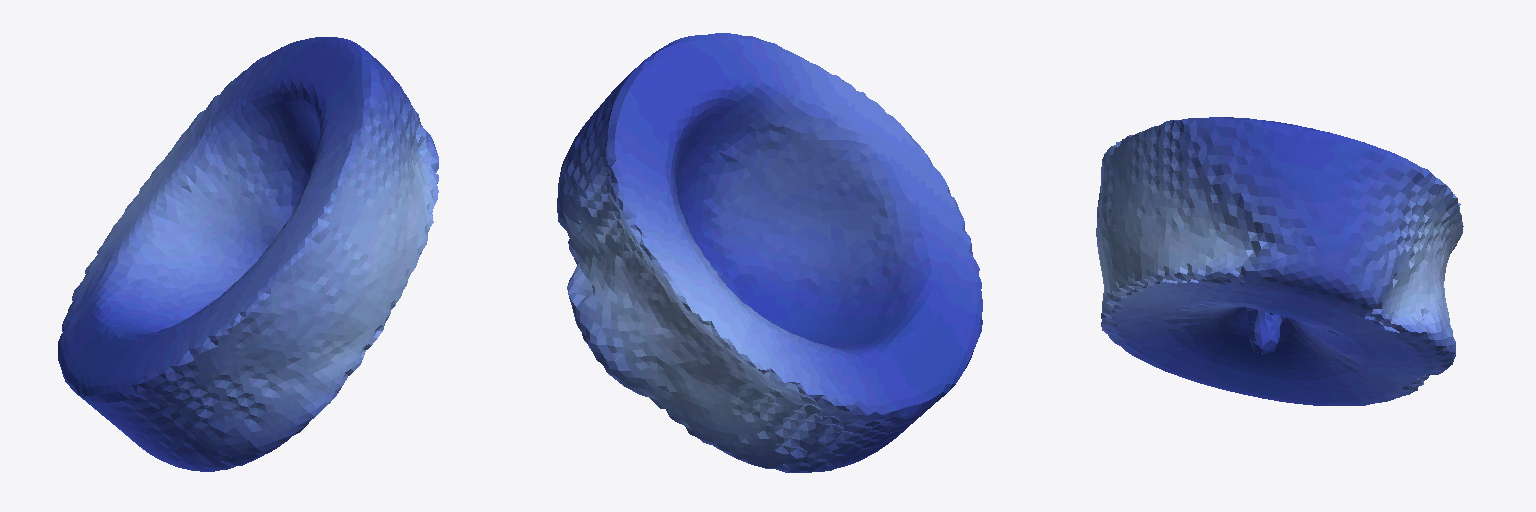
The model's file is colored_model.obj.
The picture shows the model from 3 angles: view 1: azimuth 30°, elevation 25°; view 2: azimuth 150°, elevation 25°; view 3: azimuth 270°, elevation 25°; orthographic projection.
Size of the model in its own units: 14.64 by 14.24 by 12.93.